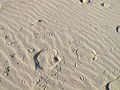animal_foot_print: (32, 48, 62, 68), (79, 46, 97, 63), (116, 26, 119, 31)
